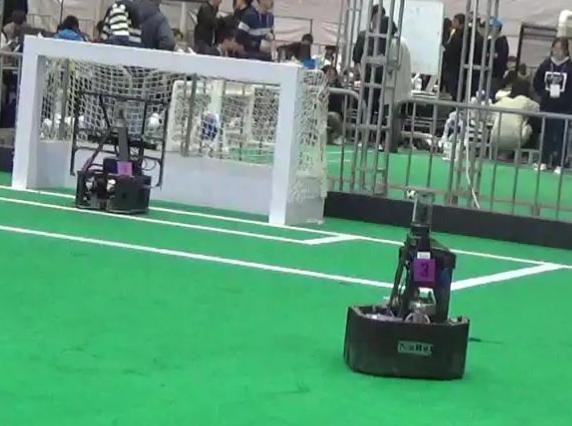robot: (336, 175, 483, 383), (76, 91, 152, 216)
